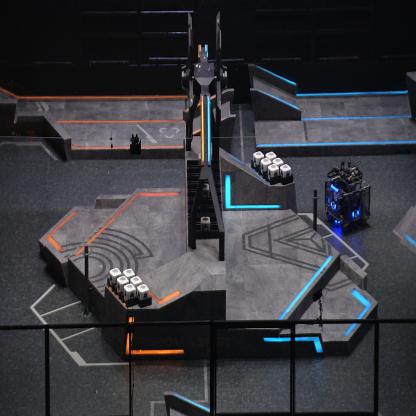car: (324, 161, 372, 232)
